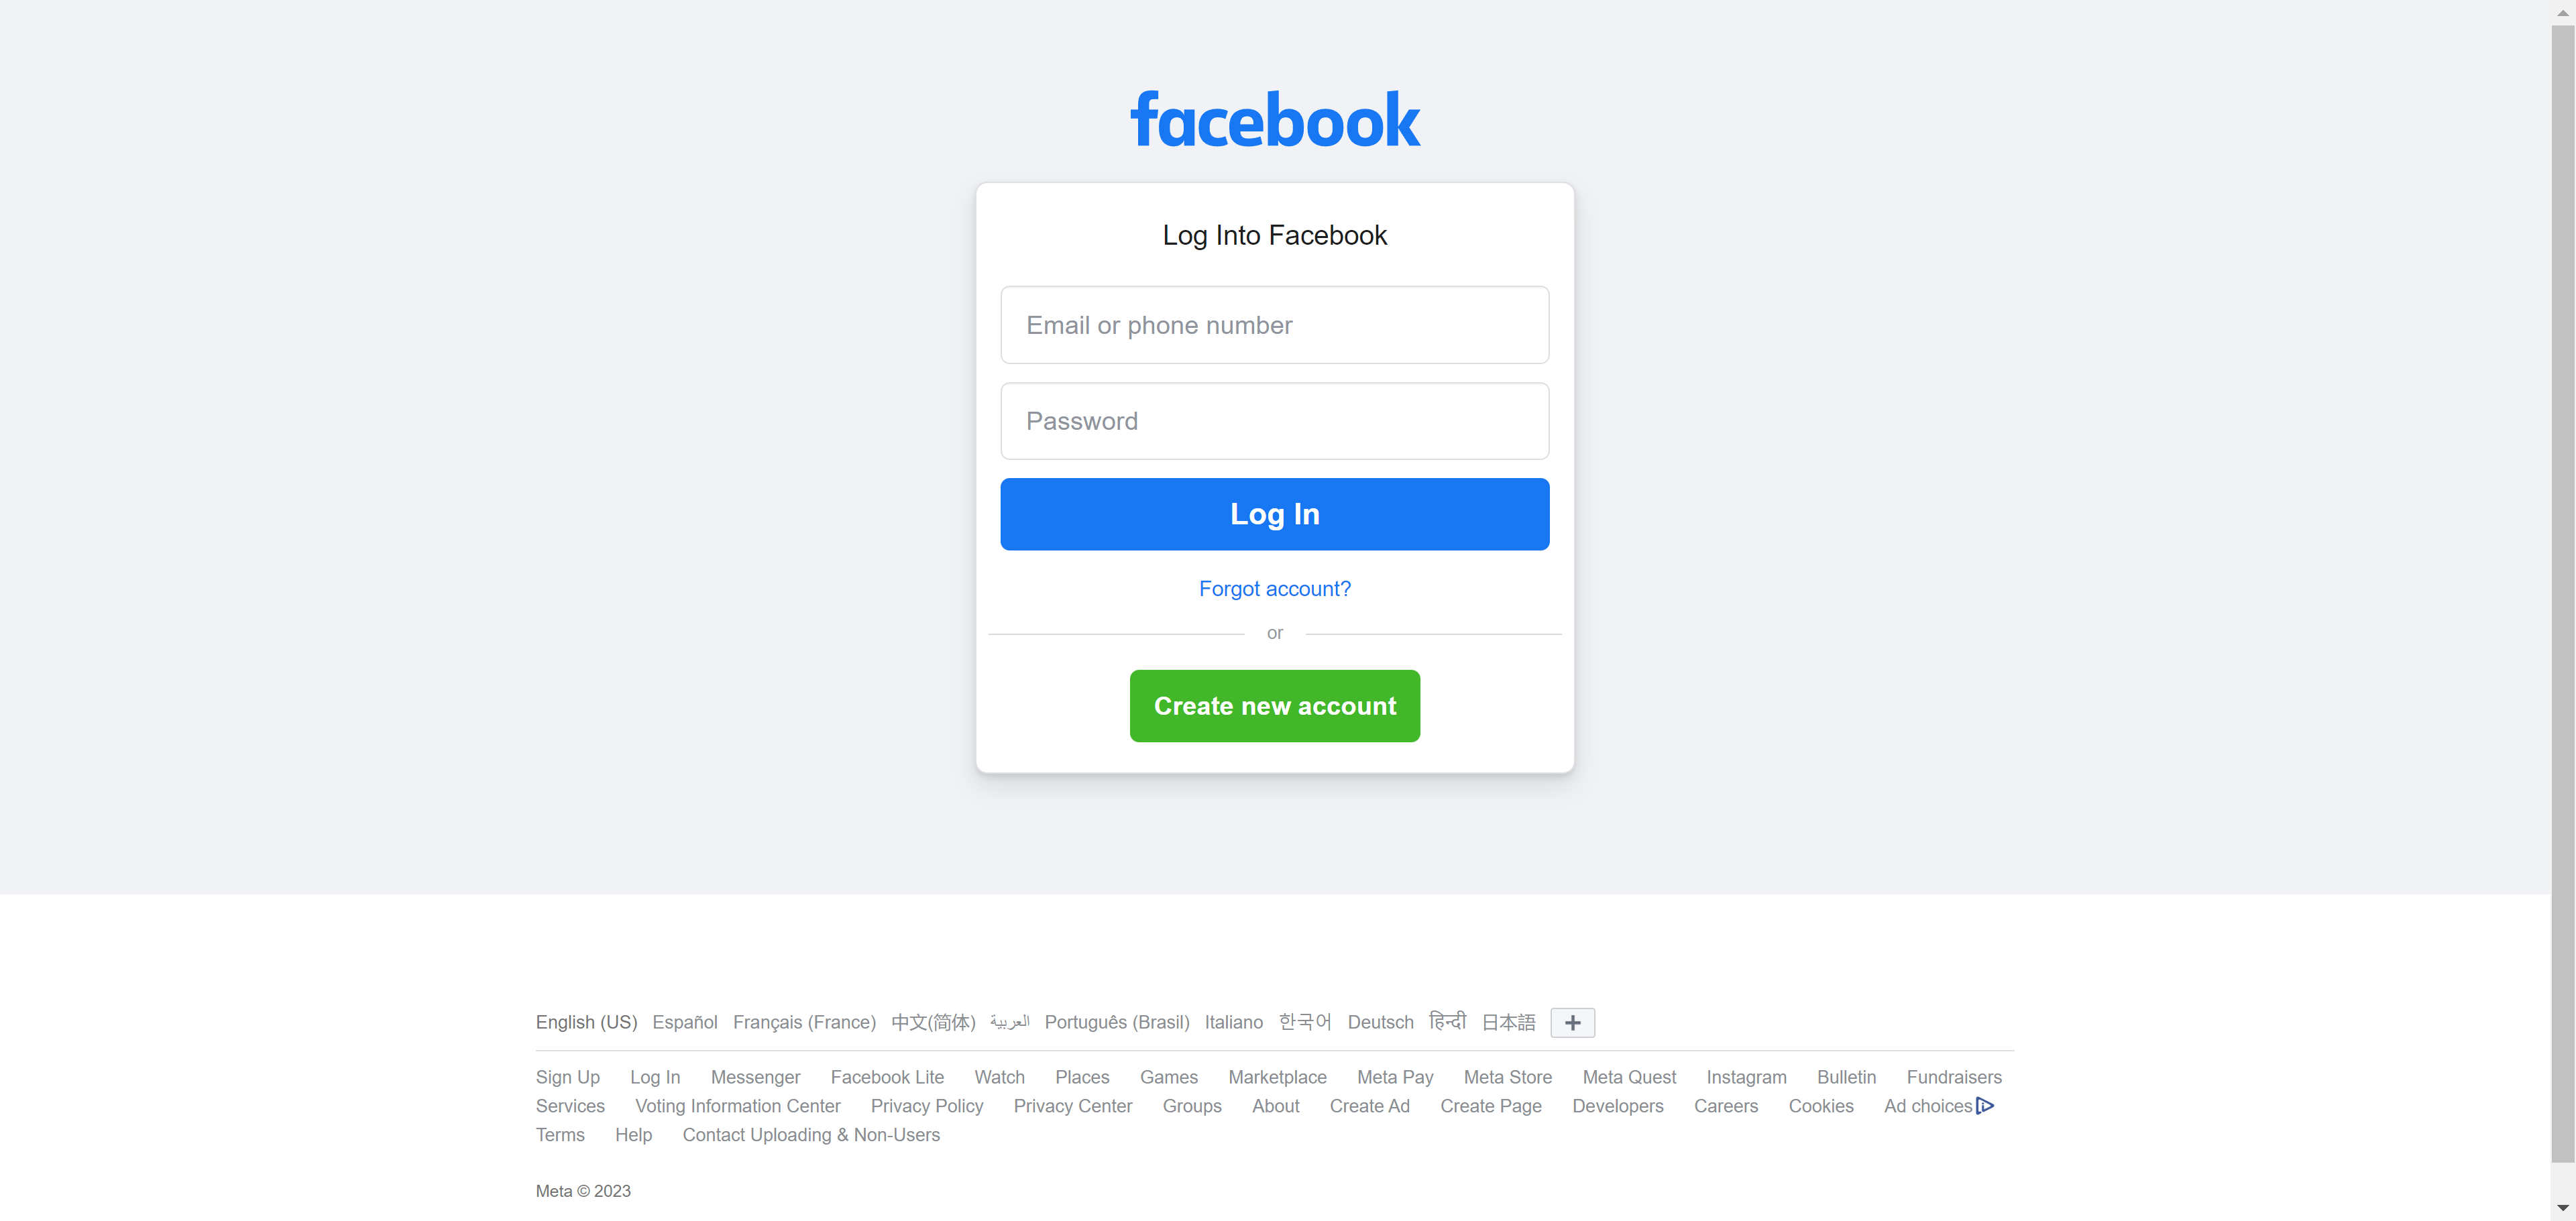login_button: (1000, 478, 1549, 551)
login_form: (994, 279, 1556, 555)
